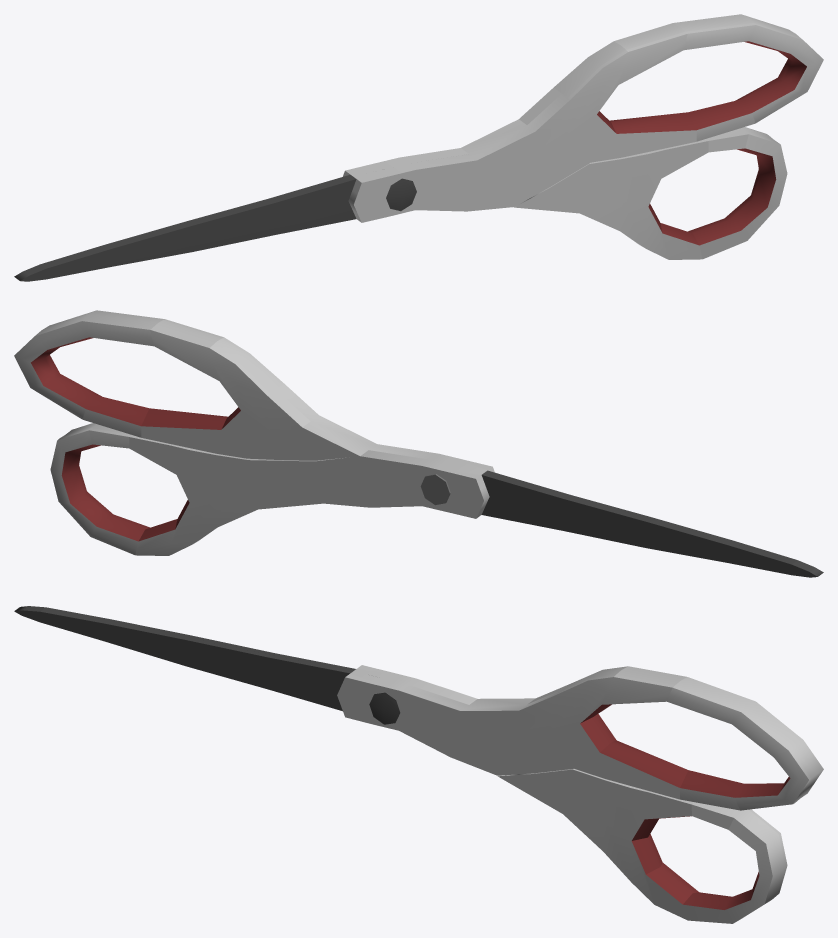
File: Scissors.fbx
The picture shows the model from 3 angles, top to bottom: view 1: azimuth 30°, elevation 25°; view 2: azimuth 150°, elevation 25°; view 3: azimuth 330°, elevation 25°; orthographic projection.
Parts seen in each view (by area): view 1: pCube3; view 2: pCube3; view 3: pCube3.
Boxes of the visible parts, x1,y1,x2,y2 form: pCube3: (14, 14, 823, 281); pCube3: (14, 310, 823, 577); pCube3: (14, 606, 823, 923).
Size of the model in its own units: 10.79 by 2.99 by 0.4578.
